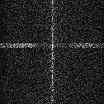wifi: (1, 42, 104, 47)
